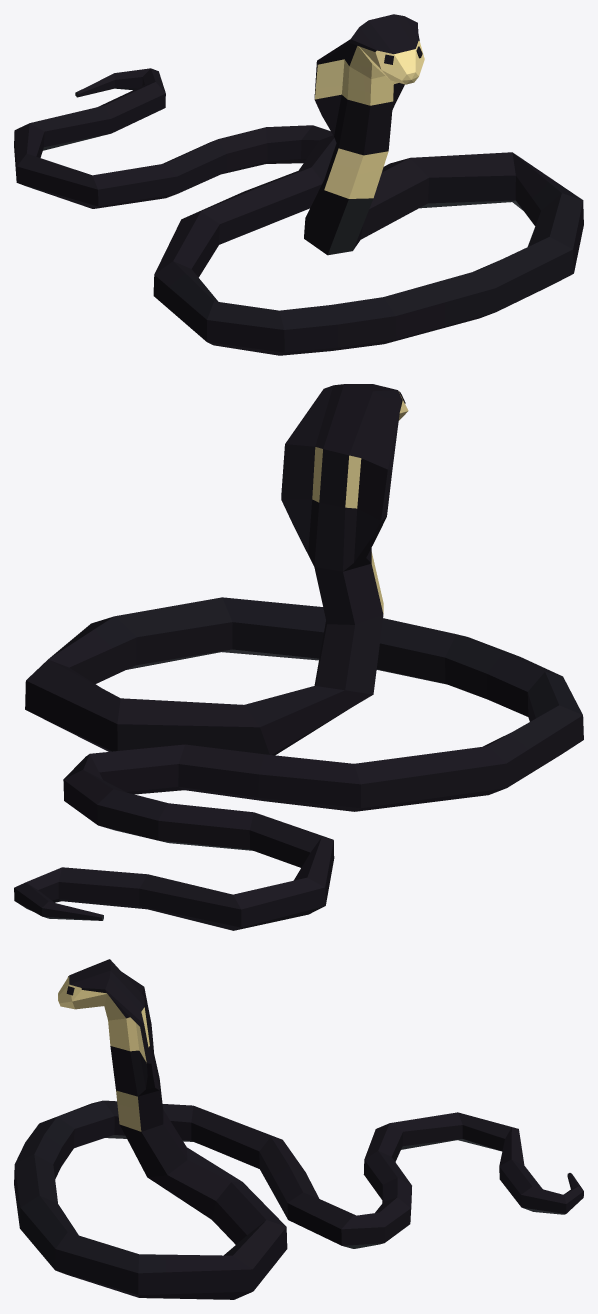
Rendered from cobra.glb.
3 renders of one model, top to bottom at view 1: azimuth 30°, elevation 25°; view 2: azimuth 150°, elevation 25°; view 3: azimuth 270°, elevation 25°, orthographic. The views are drawn at different scales.
Parts seen in each view (by area): view 1: Geo_Cobra; view 2: Geo_Cobra; view 3: Geo_Cobra.
Boxes of the visible parts, <box> form: Geo_Cobra: <box>14,14,583,355</box>; Geo_Cobra: <box>14,384,583,930</box>; Geo_Cobra: <box>14,959,583,1299</box>.
Bounding box in the file's own units: 42.61 × 28.85 × 59.77.
Materials: 1 (1 with a texture image).
